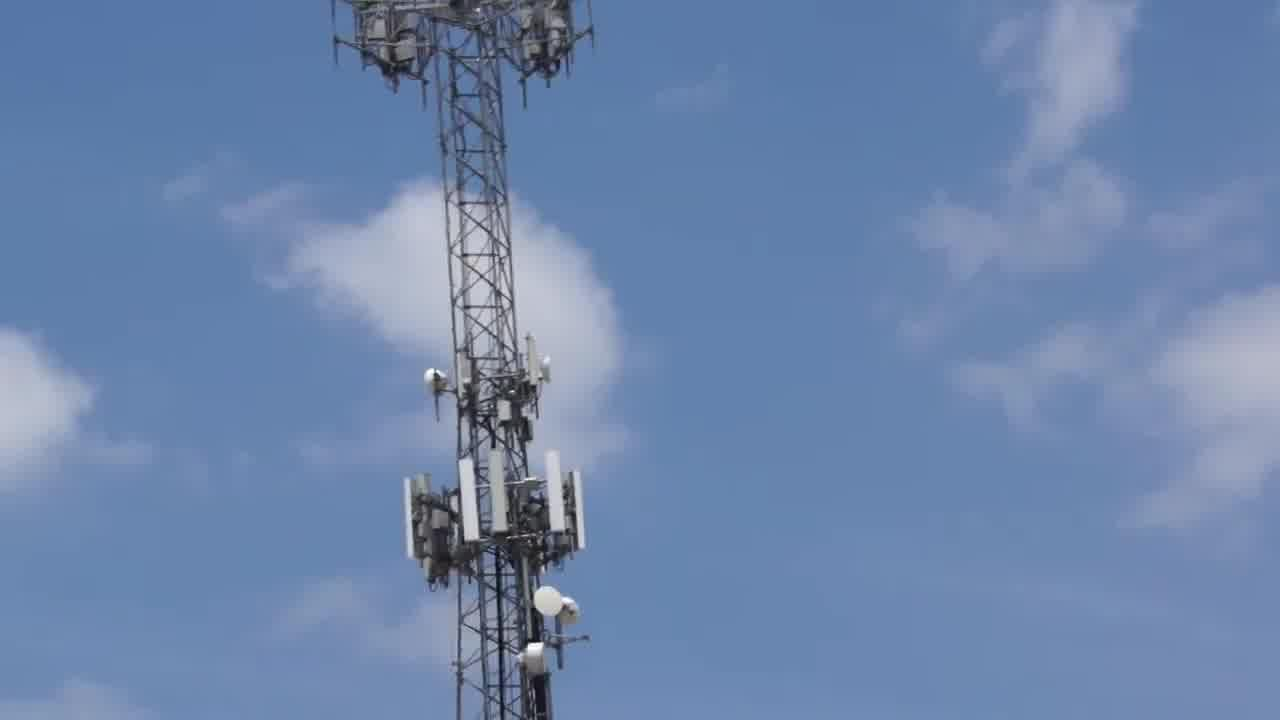Microwave Antenna: (415, 361, 457, 403), (516, 641, 553, 680), (531, 587, 566, 622), (556, 593, 587, 632), (534, 353, 563, 387)
antenna: (452, 454, 483, 548), (563, 464, 594, 552), (543, 447, 571, 537), (487, 445, 512, 537), (404, 476, 423, 563), (526, 331, 543, 396)
